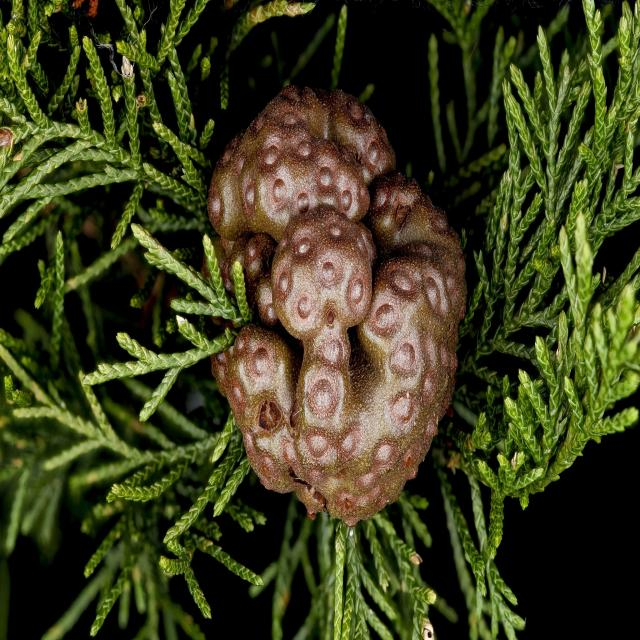Gymnosporangium_Rusts: (205, 82, 468, 528)
